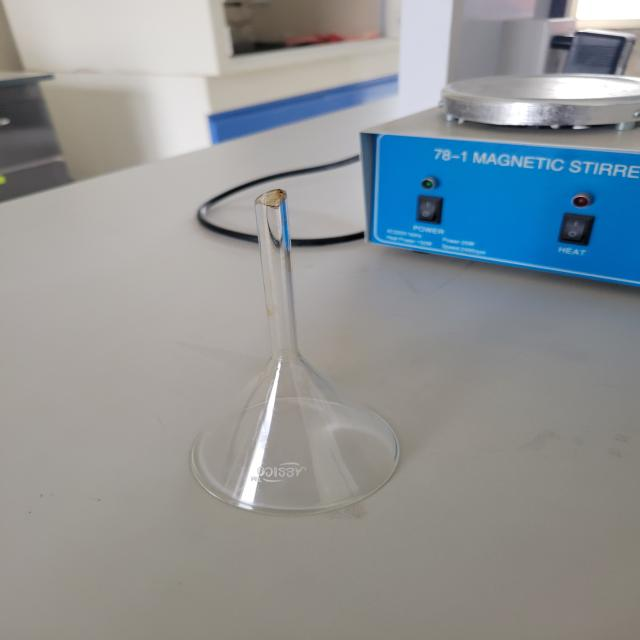Funnel: (174, 135, 426, 545)
